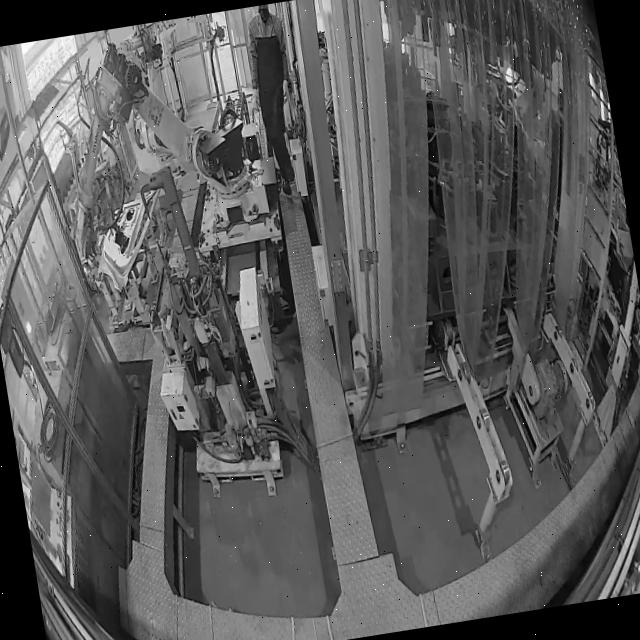Person: (237, 2, 311, 200)
